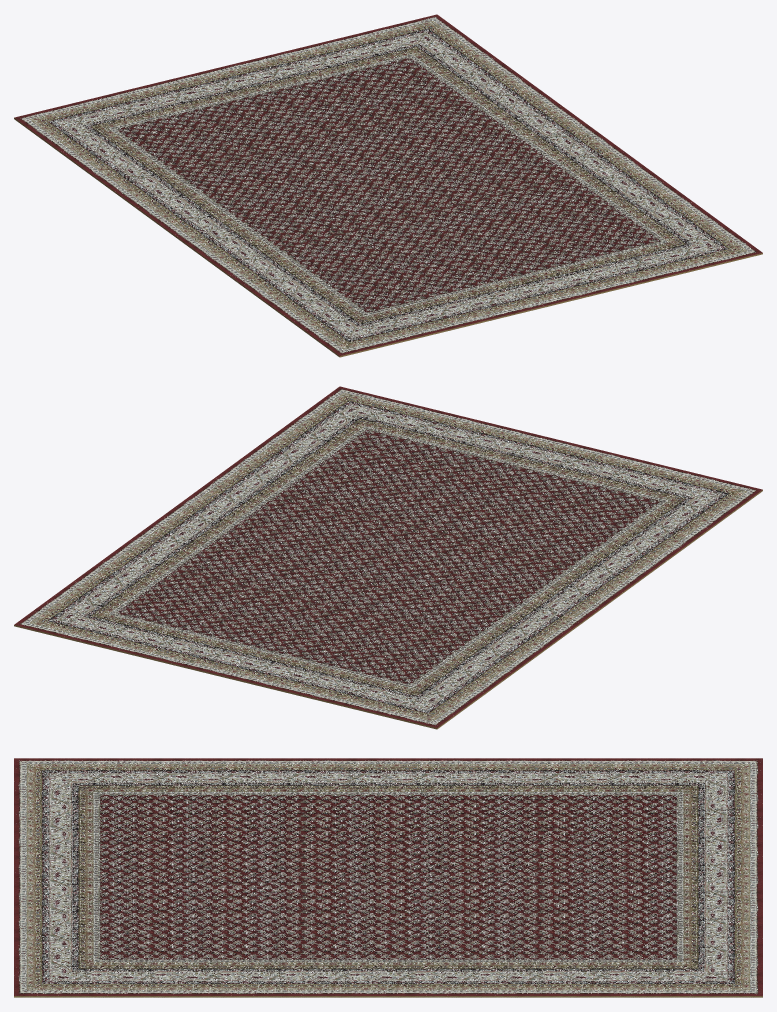
The model's file is carpet_large_mansion.DAE.
The picture shows the model from 3 angles, top to bottom: view 1: azimuth 30°, elevation 25°; view 2: azimuth 150°, elevation 25°; view 3: azimuth 270°, elevation 25°; orthographic projection. The views are drawn at different scales.
Visible parts, largest first — view 1: Box001; view 2: Box001; view 3: Box001.
Part boxes in pixels (left/top/right/bottom): Box001: left=14, top=14, right=762, bottom=357; Box001: left=14, top=386, right=762, bottom=729; Box001: left=14, top=758, right=762, bottom=997.
Size of the model in its own units: 3 by 0.01 by 4.
